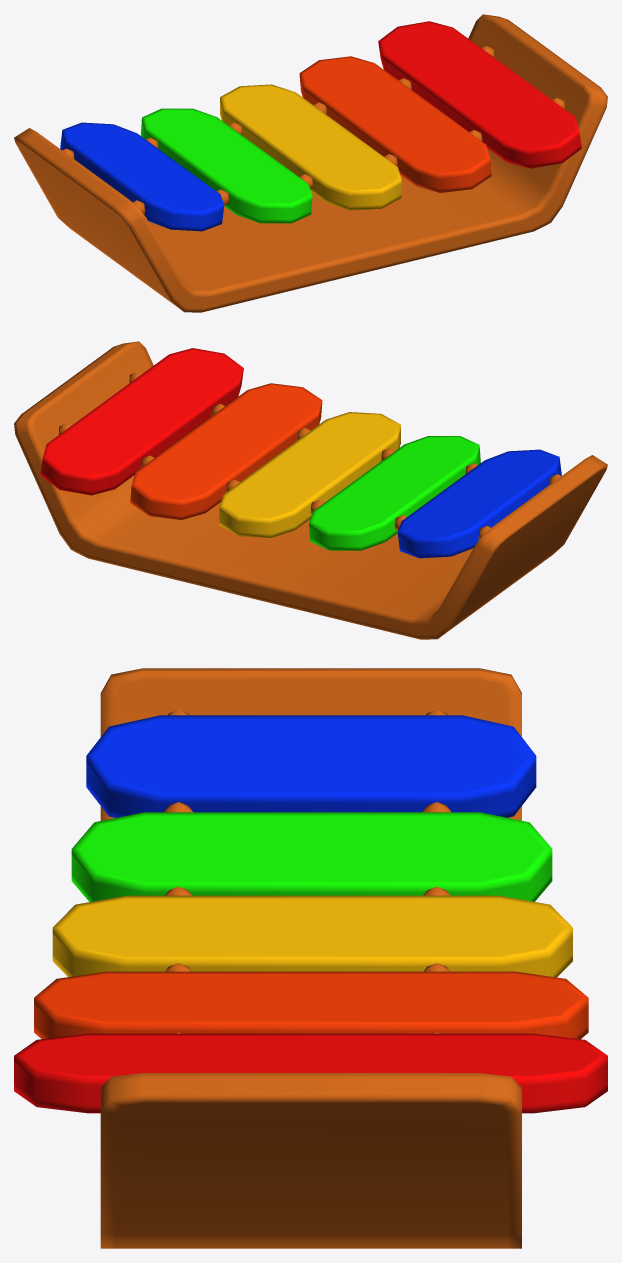
Rendered from xylophone_01.FBX.
3 views of the same model, one above another, from view 1: azimuth 30°, elevation 25°; view 2: azimuth 150°, elevation 25°; view 3: azimuth 270°, elevation 25° (orthographic). The views are drawn at different scales.
Visible parts, largest first — view 1: xylophone_01; view 2: xylophone_01; view 3: xylophone_01.
Boxes of the visible parts, <box> form: xylophone_01: <box>14,14,607,312</box>; xylophone_01: <box>14,341,607,639</box>; xylophone_01: <box>14,668,607,1248</box>.
Bounding box in the file's own units: 1827 × 440 × 1054.
